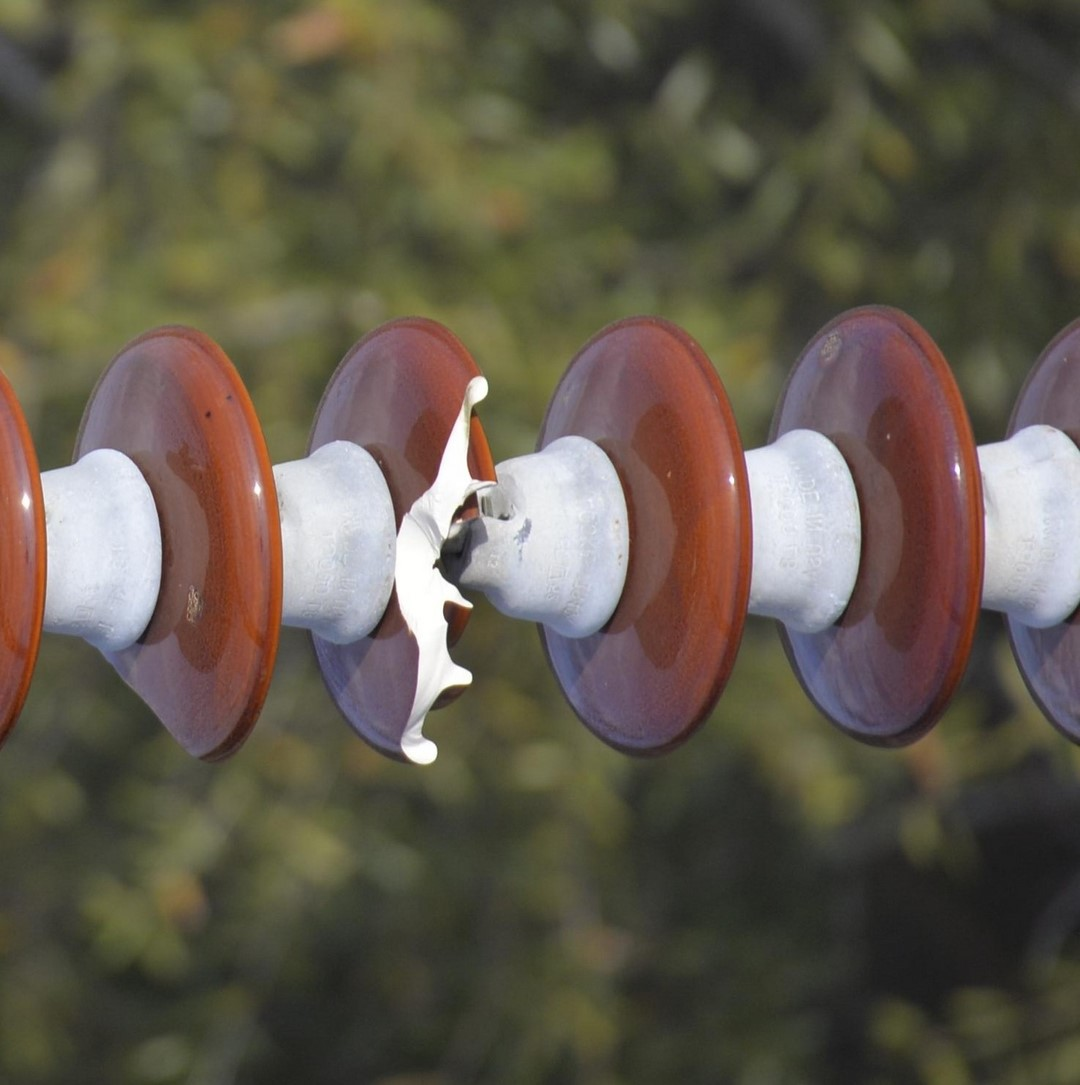insulator breakage: (307, 309, 507, 783)
